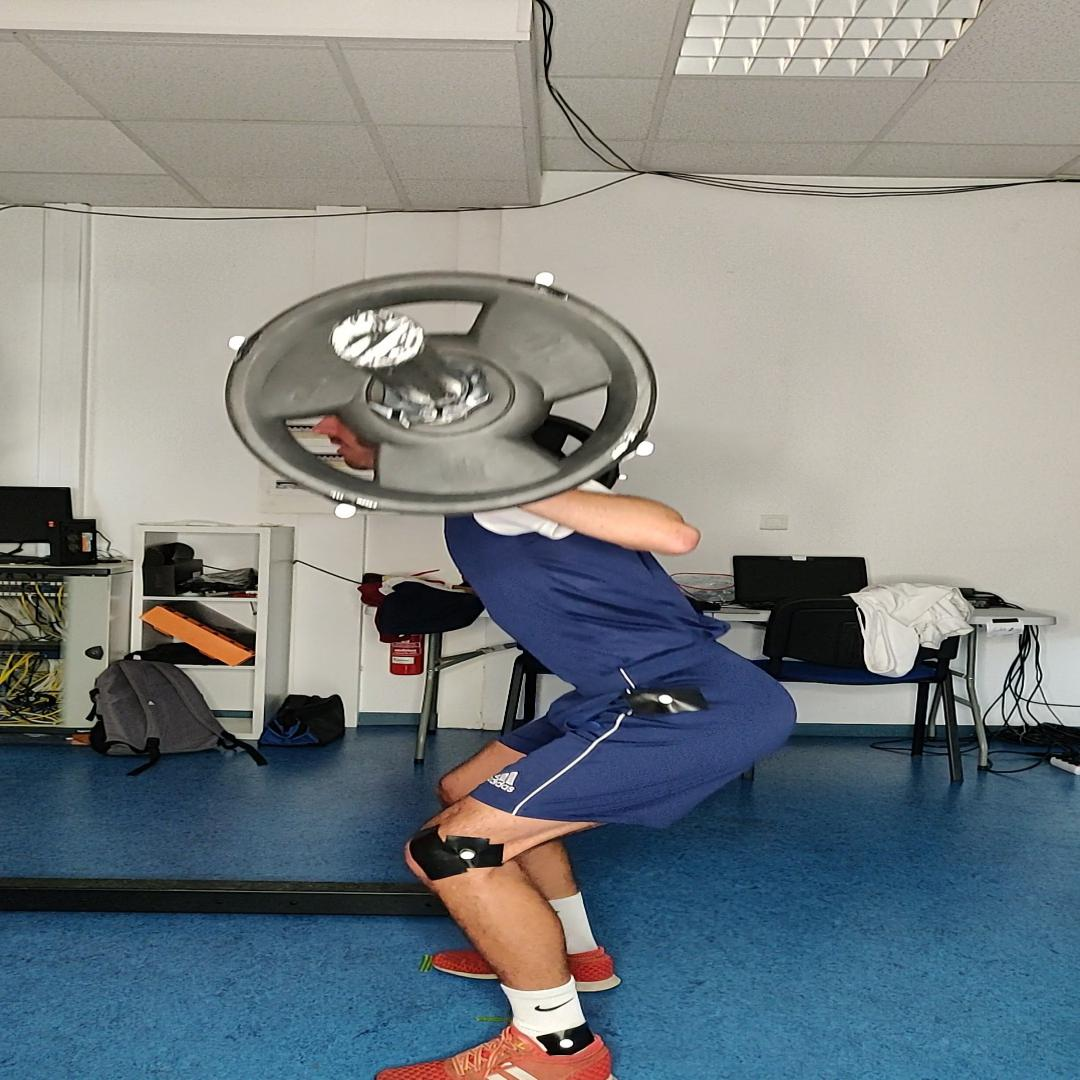Bar: (332, 309, 425, 368)
Barbell: (225, 271, 658, 516)
